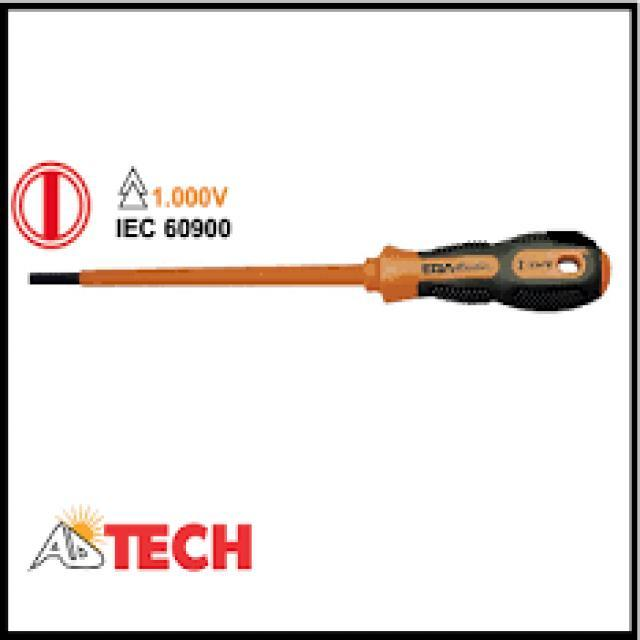screwdriver: (24, 228, 610, 314)
